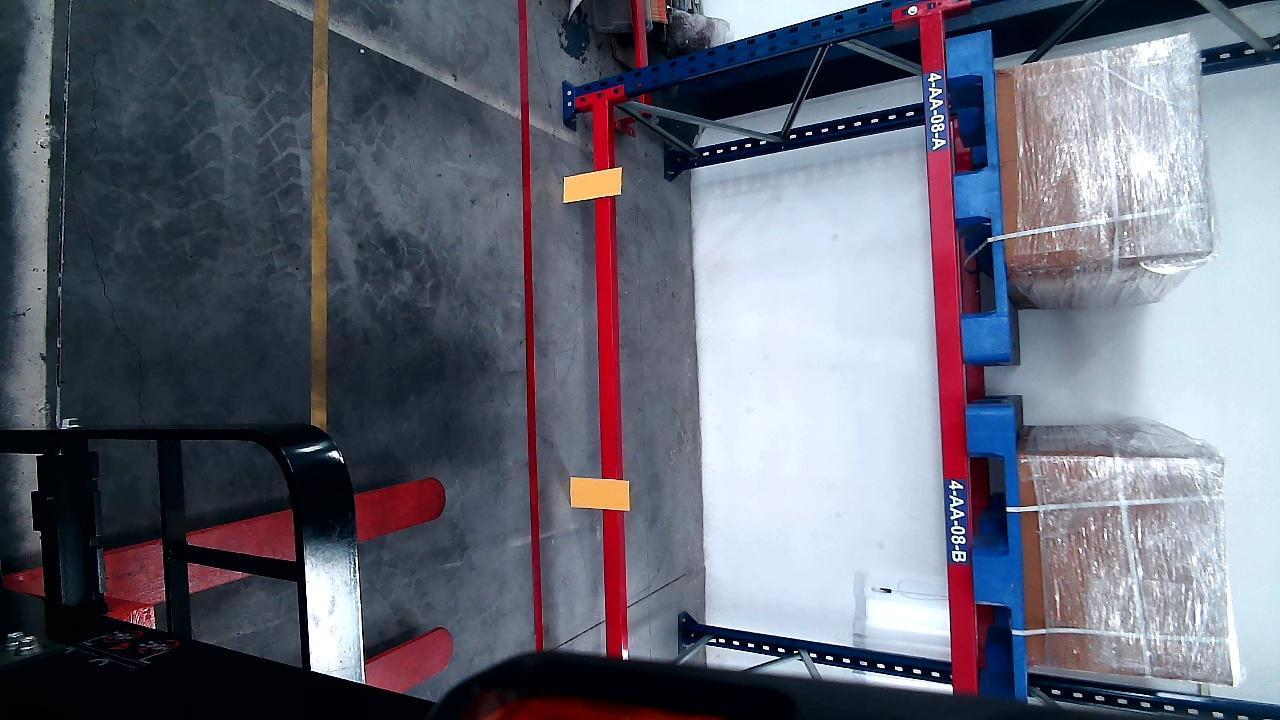h_rack: (921, 21, 976, 686), (589, 97, 625, 649)
orange_strip: (569, 476, 630, 510), (563, 167, 621, 201)
red_line: (517, 0, 543, 651)
small_pallet: (947, 30, 1008, 357), (970, 412, 1027, 687)
yellow_line: (309, 3, 332, 423)
